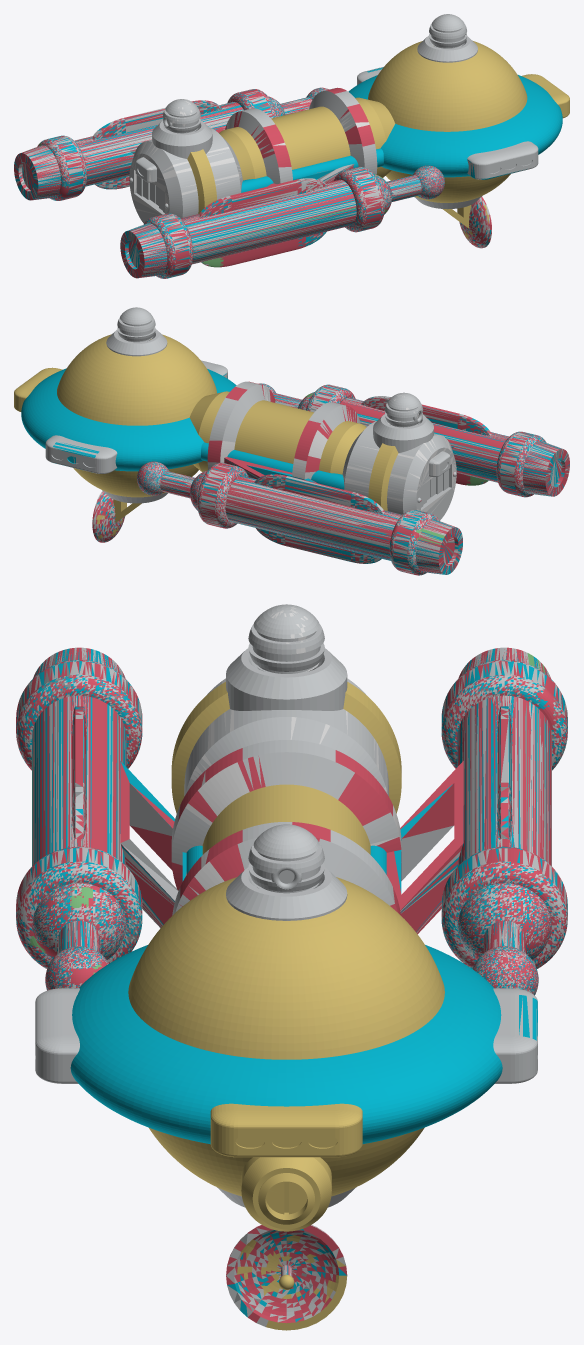
Rendered from Earth Destroyer v2.1.glb.
3 views of the same model, one above another, from view 1: azimuth 30°, elevation 25°; view 2: azimuth 150°, elevation 25°; view 3: azimuth 270°, elevation 25° (orthographic). The views are drawn at different scales.
Parts seen in each view (by area): view 1: Mesh_Mesh_head_geo.001_lambert2SG.001; view 2: Mesh_Mesh_head_geo.001_lambert2SG.001; view 3: Mesh_Mesh_head_geo.001_lambert2SG.001.
Part boxes in pixels (x1,y1,x2,y2): Mesh_Mesh_head_geo.001_lambert2SG.001: [14, 14, 569, 278]; Mesh_Mesh_head_geo.001_lambert2SG.001: [14, 307, 569, 575]; Mesh_Mesh_head_geo.001_lambert2SG.001: [16, 604, 567, 1330].
Size of the model in its own units: 99.6 by 47.5 by 50.06.
